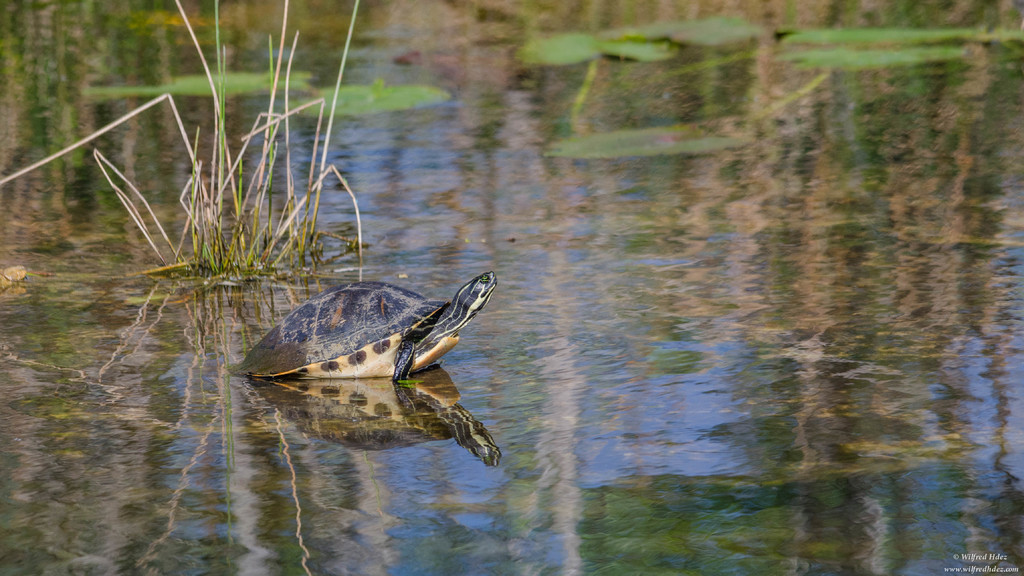Sea turtles: (220, 271, 496, 375)
